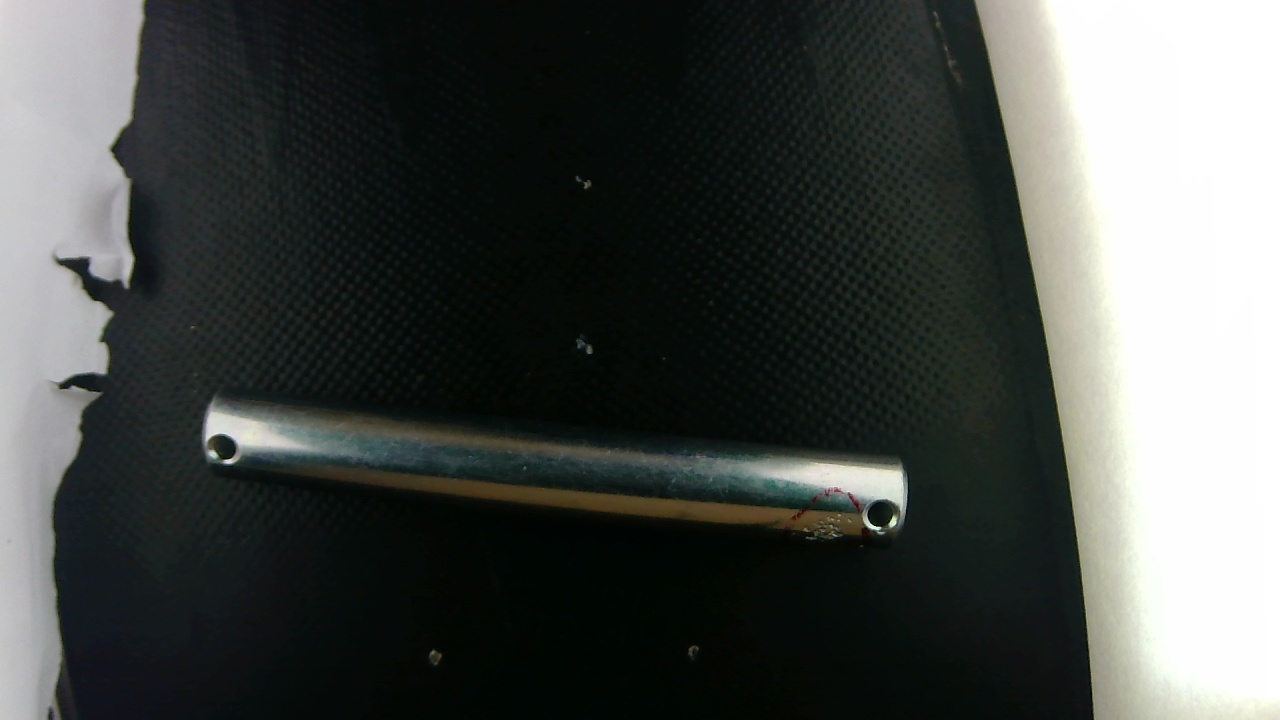pitmark_pin: (811, 506, 854, 542)
